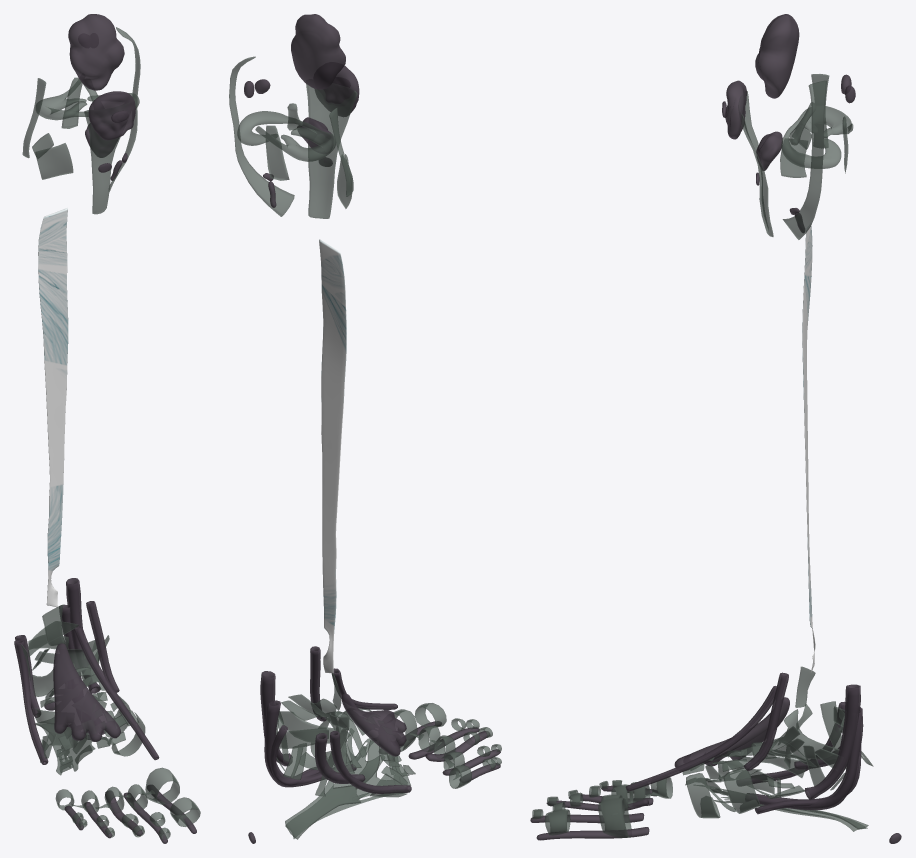
The model's file is Connective.Lower_limb.Interosseous_membrane_lower_limb_R.000.obj.
3 renders of one model, left to right at view 1: azimuth 30°, elevation 25°; view 2: azimuth 150°, elevation 25°; view 3: azimuth 270°, elevation 25°, orthographic. The views are drawn at different scales.
Parts seen in each view (by area): view 1: Connective:Lower_limb:Interosseous_membrane_lower_limb_R.000_Low; view 2: Connective:Lower_limb:Interosseous_membrane_lower_limb_R.000_Low; view 3: Connective:Lower_limb:Interosseous_membrane_lower_limb_R.000_Low.
Boxes of the visible parts, x1,y1,x2,y2 form: Connective:Lower_limb:Interosseous_membrane_lower_limb_R.000_Low: [14, 14, 200, 843]; Connective:Lower_limb:Interosseous_membrane_lower_limb_R.000_Low: [229, 14, 501, 843]; Connective:Lower_limb:Interosseous_membrane_lower_limb_R.000_Low: [530, 14, 901, 843].
Size of the model in its own units: 0.6732 by 3.06 by 1.24.
